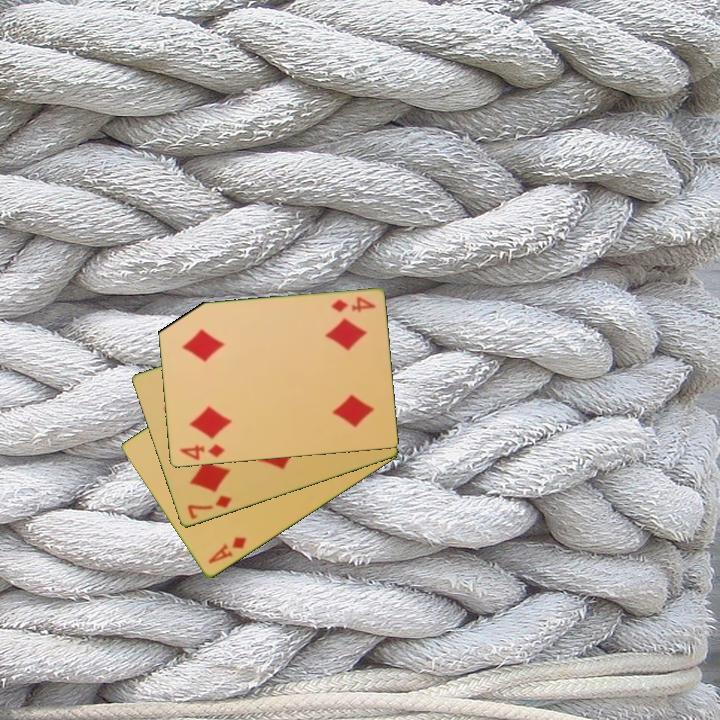4d: (175, 441, 228, 463), (327, 294, 378, 315)
7d: (183, 492, 235, 523)
Ad: (205, 533, 249, 567)
